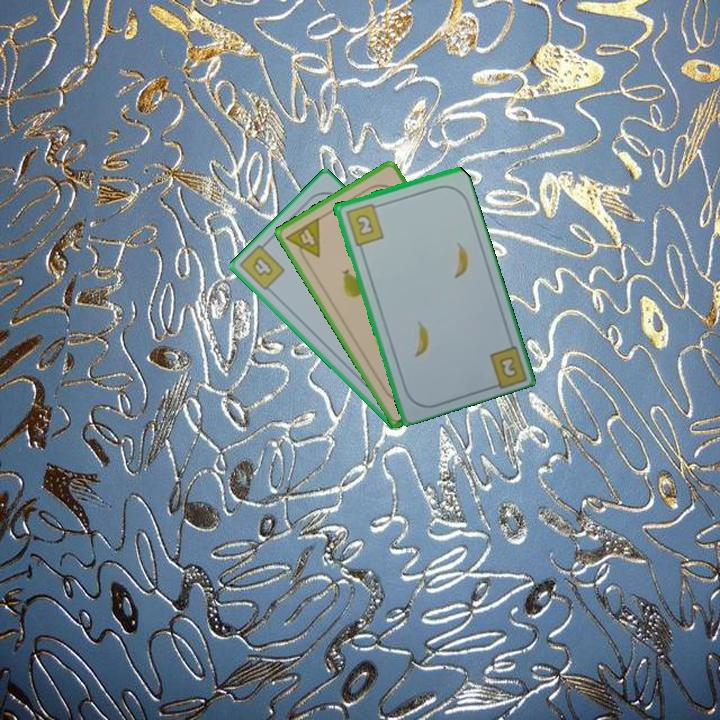2b: (342, 199, 386, 248), (495, 352, 520, 381)
4b: (248, 252, 276, 279)
4p: (282, 214, 323, 267)
